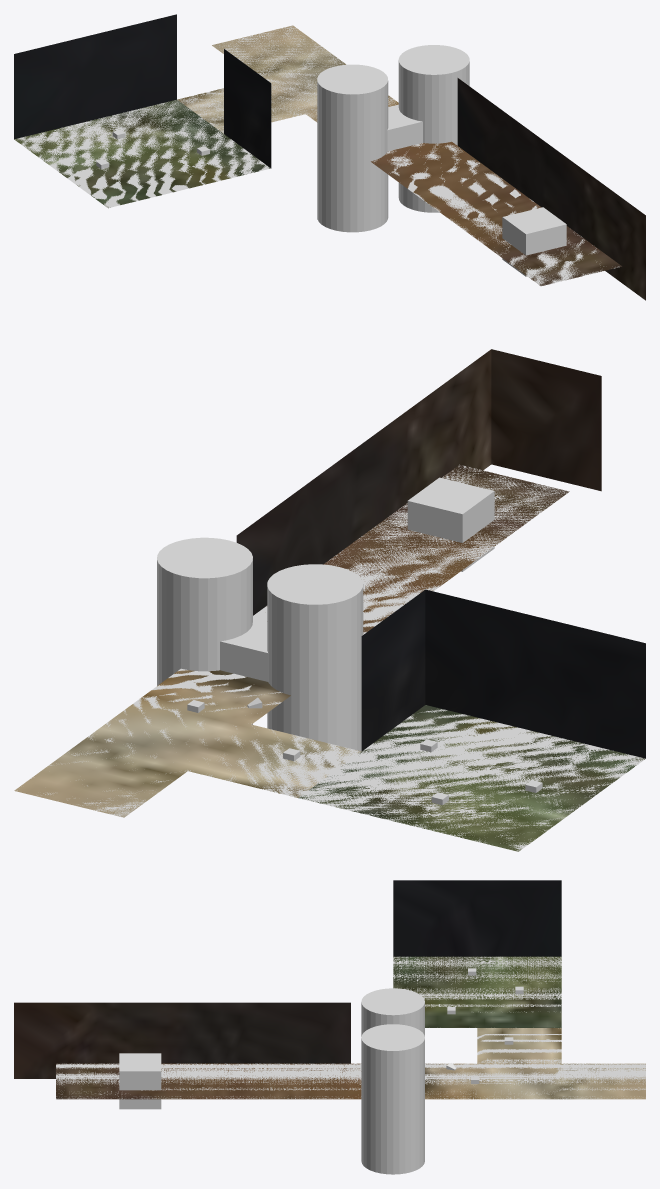
Rendered from staging-world-state.gltf.
The picture shows the model from 3 angles, top to bottom: view 1: azimuth 30°, elevation 25°; view 2: azimuth 150°, elevation 25°; view 3: azimuth 270°, elevation 25°; orthographic projection. The views are drawn at different scales.
Parts seen in each view (by area): view 1: Plane.088, Plane.092, Plane.086, Plane.090, Cylinder.001, Plane.089, Plane.087, Cylinder, staging-to-courtyard, Cube.002; view 2: Plane.086, Plane.092, Plane.088, Plane.087, Plane.090, Cylinder.001, Cylinder, Plane.089, staging-to-courtyard, Cube.002; view 3: Plane.086, Plane.092, Plane.088, Plane.090, Cylinder, Plane.087, Plane.089, Cylinder.001, staging-to-courtyard.
Part boxes in pixels (x1,y1,x2,y2): Plane.088: [14, 14, 271, 168]; Plane.092: [15, 25, 619, 286]; Plane.086: [457, 78, 645, 300]; Plane.090: [14, 99, 270, 208]; Cylinder.001: [317, 64, 388, 232]; Plane.089: [371, 141, 621, 285]; Plane.087: [177, 25, 398, 133]; Cylinder: [398, 45, 469, 212]; staging-to-courtyard: [502, 207, 566, 276]; Cube.002: [387, 104, 422, 151]; Plane.086: [236, 349, 601, 615]; Plane.092: [15, 464, 644, 851]; Plane.088: [361, 589, 645, 758]; Plane.087: [14, 670, 361, 817]; Plane.090: [298, 705, 644, 851]; Cylinder.001: [267, 564, 363, 751]; Cylinder: [157, 537, 252, 724]; Plane.089: [323, 465, 569, 632]; staging-to-courtyard: [407, 477, 494, 571]; Cube.002: [220, 618, 268, 681]; Plane.086: [14, 1002, 350, 1078]; Plane.092: [56, 956, 645, 1099]; Plane.088: [393, 880, 561, 956]; Plane.090: [393, 956, 561, 1027]; Cylinder: [361, 1024, 424, 1174]; Plane.087: [425, 1028, 645, 1099]; Plane.089: [56, 1063, 361, 1099]; Cylinder.001: [361, 988, 424, 1036]; staging-to-courtyard: [119, 1053, 161, 1109].
Bounding box in the file's own units: 87.56 × 36.2 × 150.
Materials: 3 (3 with a texture image).
